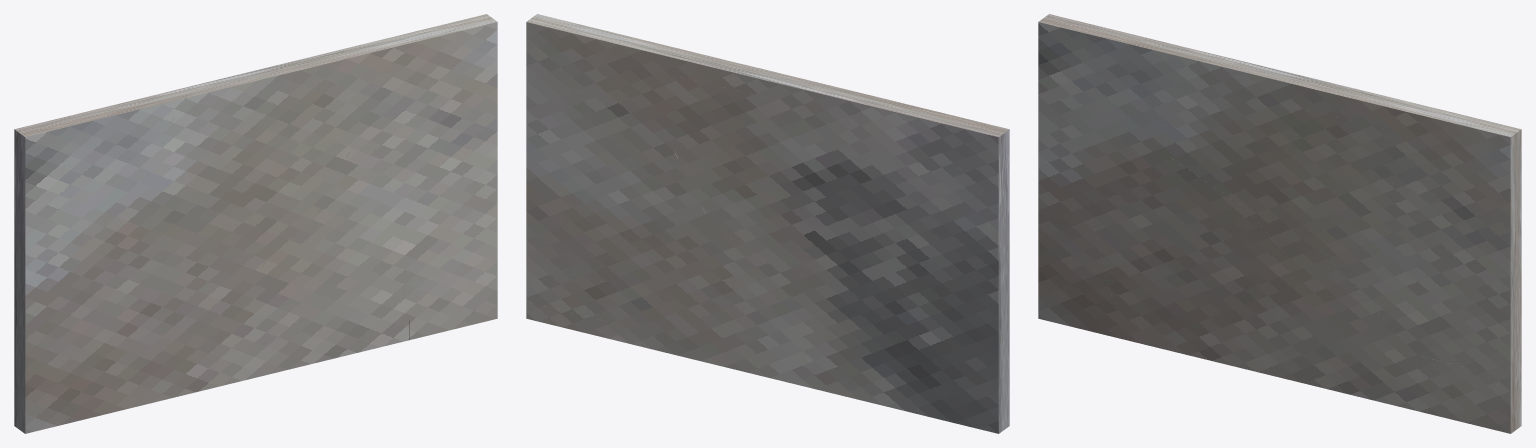
The model's file is Pared-Rota.gltf.
3 views of the same model, side by side, from view 1: azimuth 30°, elevation 25°; view 2: azimuth 150°, elevation 25°; view 3: azimuth 330°, elevation 25° (orthographic).
Visible parts, largest first — view 1: Cube_cell.007, Cube_cell.003, Cube_cell.011, Cube_cell.008, Cube_cell, Cube_cell.012, Cube_cell.005, Cube_cell.013, Cube_cell.014, Cube_cell.002, Cube_cell.006, Cube_cell.010 (+3 smaller); view 2: Cube_cell.007, Cube_cell.003, Cube_cell.011, Cube_cell.008, Cube_cell.012, Cube_cell, Cube_cell.005, Cube_cell.013, Cube_cell.014, Cube_cell.006, Cube_cell.002, Cube_cell.004 (+3 smaller); view 3: Cube_cell.007, Cube_cell.003, Cube_cell.011, Cube_cell.008, Cube_cell, Cube_cell.005, Cube_cell.012, Cube_cell.013, Cube_cell.002, Cube_cell.004, Cube_cell.006, Cube_cell.010 (+3 smaller).
Boxes of the visible parts, x1,y1,x2,y2 form: Cube_cell.007: (70,208,271,412); Cube_cell.003: (311,115,497,285); Cube_cell.011: (200,229,408,391); Cube_cell.008: (232,80,359,247); Cube_cell: (14,130,158,281); Cube_cell.012: (14,265,110,433); Cube_cell.005: (340,14,497,130); Cube_cell.013: (147,81,231,222); Cube_cell.014: (14,116,82,243); Cube_cell.002: (425,34,497,160); Cube_cell.006: (67,90,183,170); Cube_cell.010: (211,50,349,109); Cube_cell.007: (753,210,953,412); Cube_cell.003: (526,112,713,287); Cube_cell.011: (615,230,823,391); Cube_cell.008: (662,75,791,249); Cube_cell.012: (913,265,1009,433); Cube_cell: (868,135,1009,281); Cube_cell.005: (526,14,684,127); Cube_cell.013: (792,82,878,224); Cube_cell.014: (943,116,1009,245); Cube_cell.006: (840,90,953,174); Cube_cell.002: (526,32,598,157); Cube_cell.004: (526,183,618,285); Cube_cell.007: (1083,158,1284,361); Cube_cell.003: (1324,179,1521,354); Cube_cell.011: (1213,253,1422,412); Cube_cell.008: (1245,95,1372,252); Cube_cell: (1038,43,1171,187); Cube_cell.005: (1363,93,1521,194); Cube_cell.012: (1038,158,1123,339); Cube_cell.013: (1160,52,1245,207); Cube_cell.002: (1438,139,1521,275); Cube_cell.004: (1416,290,1521,378); Cube_cell.006: (1093,27,1206,114); Cube_cell.010: (1232,62,1374,123).
Bounding box in the file's own units: 50 × 30 × 2.
1 material, 1 textured.
